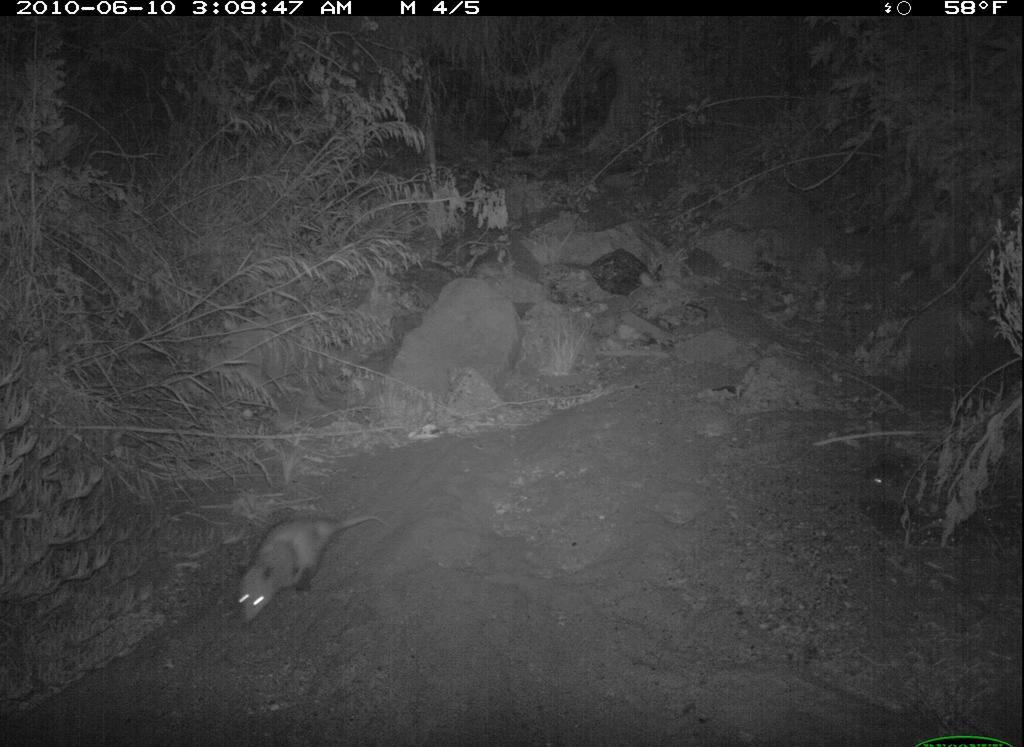opossum: (222, 491, 387, 632)
